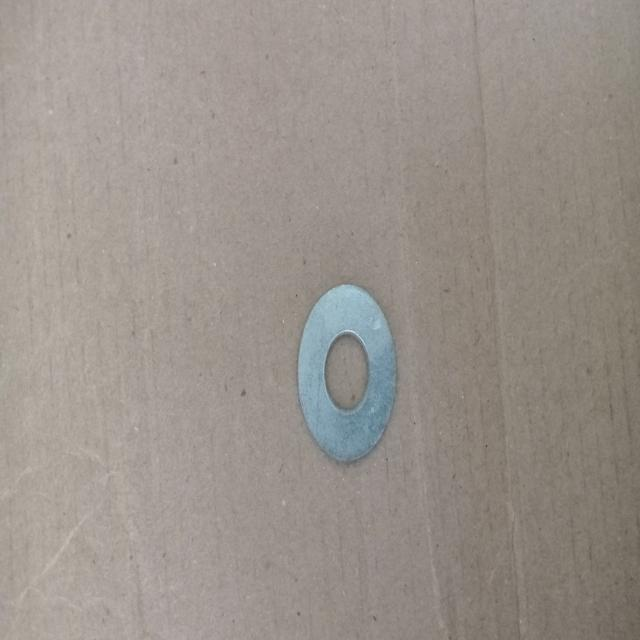washer: (297, 283, 398, 462)
